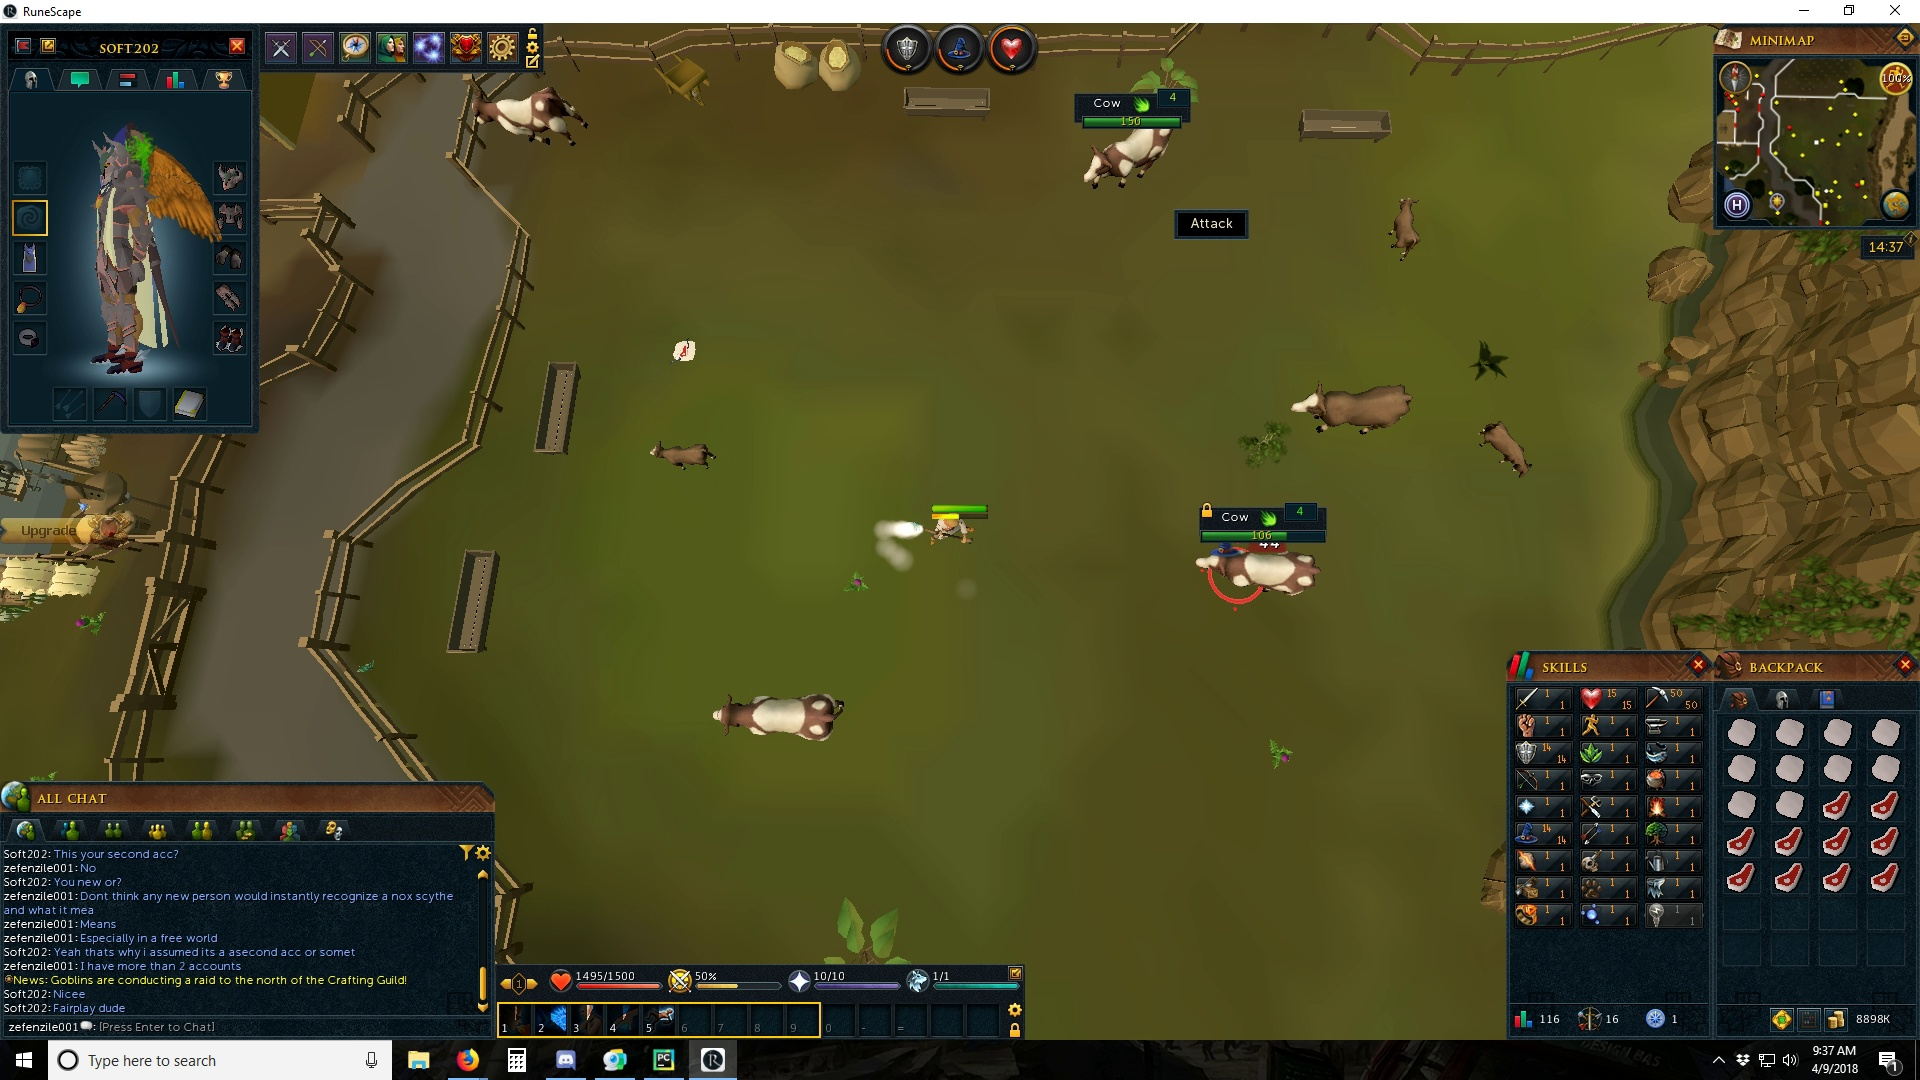calf: (1477, 417, 1538, 479), (1385, 196, 1424, 264), (647, 442, 717, 469)
cow: (469, 86, 592, 148), (709, 688, 844, 744), (1290, 380, 1414, 436), (1189, 547, 1323, 600), (1081, 128, 1178, 195)
cow_drop: (669, 332, 698, 364)
